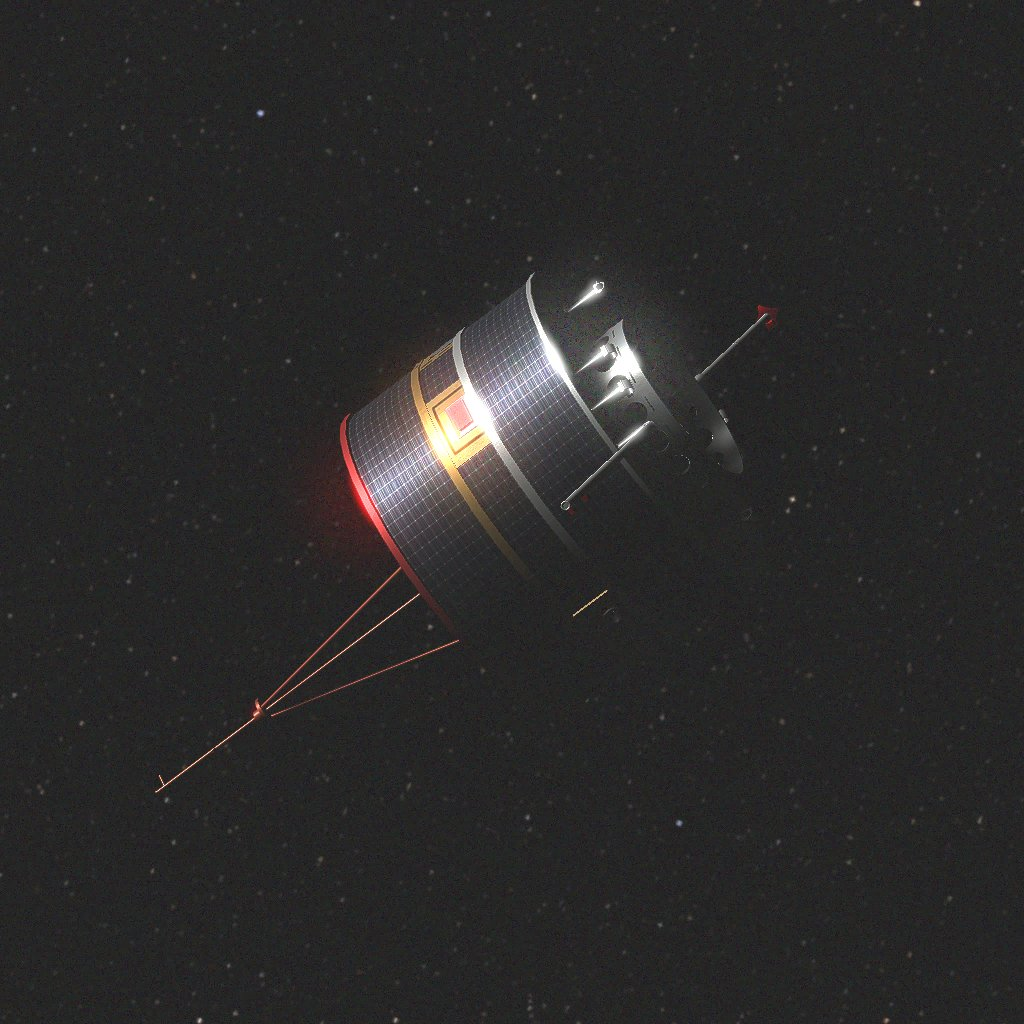double_star: (155, 271, 779, 795)
